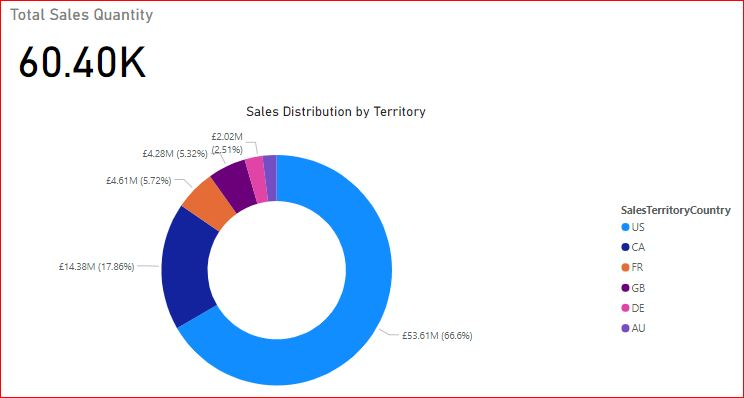

This screenshot's page, from the dashboard's own definition file:
{"tool":"powerbi","page":{"name":"Page 1","canvas":[1280,720],"ordinal":0},"visuals":[{"type":"card","title":"Total Sales Quantity","fields":{"Values":["FactInternetSales.Total Sales Qty"]},"box":[134.2,127.5,382.5,109],"z":0},{"type":"donutChart","title":" Sales Distribution by Territory","fields":{"Category":["DimSalesTerritory.SalesTerritoryCountry"],"Y":["Sum(FactResellerSales.SalesAmount)"]},"box":[134.2,250,1018.3,399.3],"z":1000}]}

Visuals, with their boxes on the page's 1280x720 design canvas (x1, y1, x2, y2). These are canvas units, not pixel positions in the 744x398 screenshot, which may show the page scaled, cropped or inside an application window:
"Total Sales Quantity" card: x1=134, y1=128, x2=517, y2=236
" Sales Distribution by Territory" donutChart: x1=134, y1=250, x2=1152, y2=649
